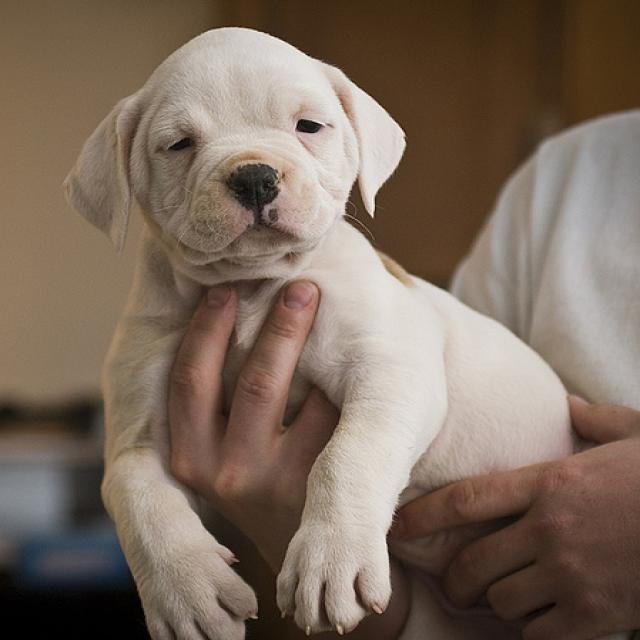dog-american_bulldog: (50, 20, 580, 637)
